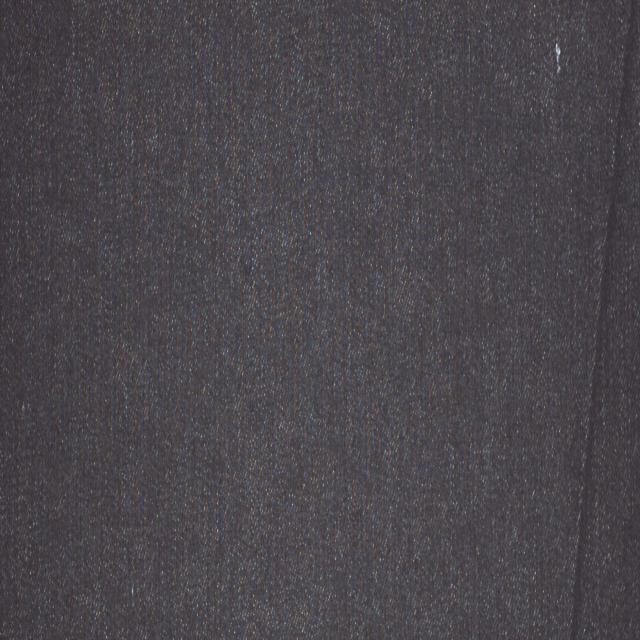Line: (566, 5, 636, 640)
